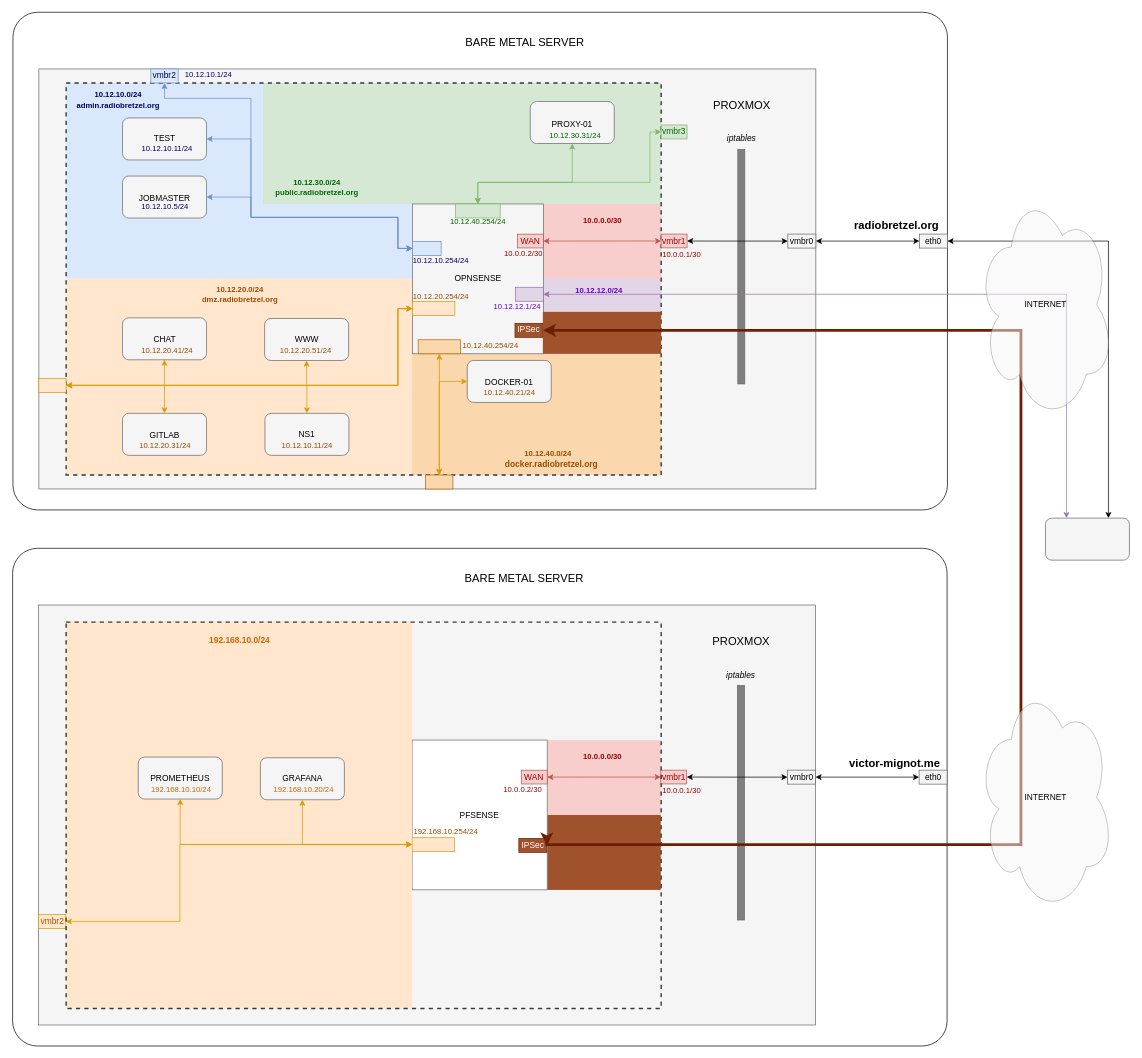
Image size: 1142x1058. Some labels were removed from this diagram. Here are the shapes that lost their labels. From the top down, the centre of each, then its label:
At point (477, 210): "DMZ_PUB".
At point (426, 248): "ADMIN".
At point (433, 308): "DMZ_INT".
At point (529, 294): "VPN".
At point (439, 346): "DOCKER".
At point (52, 385): "vmbr4".
At point (439, 481): "vmbr5".
At point (1087, 538): "LAPTOP".
At point (433, 844): "LAN".
